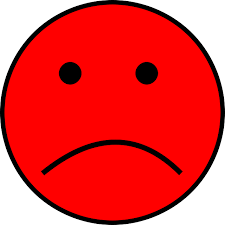triste: (1, 5, 214, 221), (38, 46, 196, 182)
